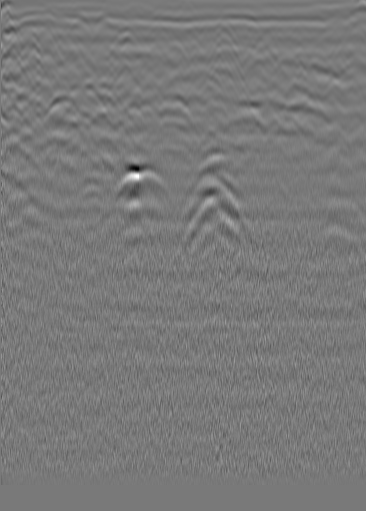가스: (100, 166, 159, 205)
상수: (322, 38, 342, 58)
오수: (50, 22, 70, 42)
우수: (215, 34, 235, 54)
